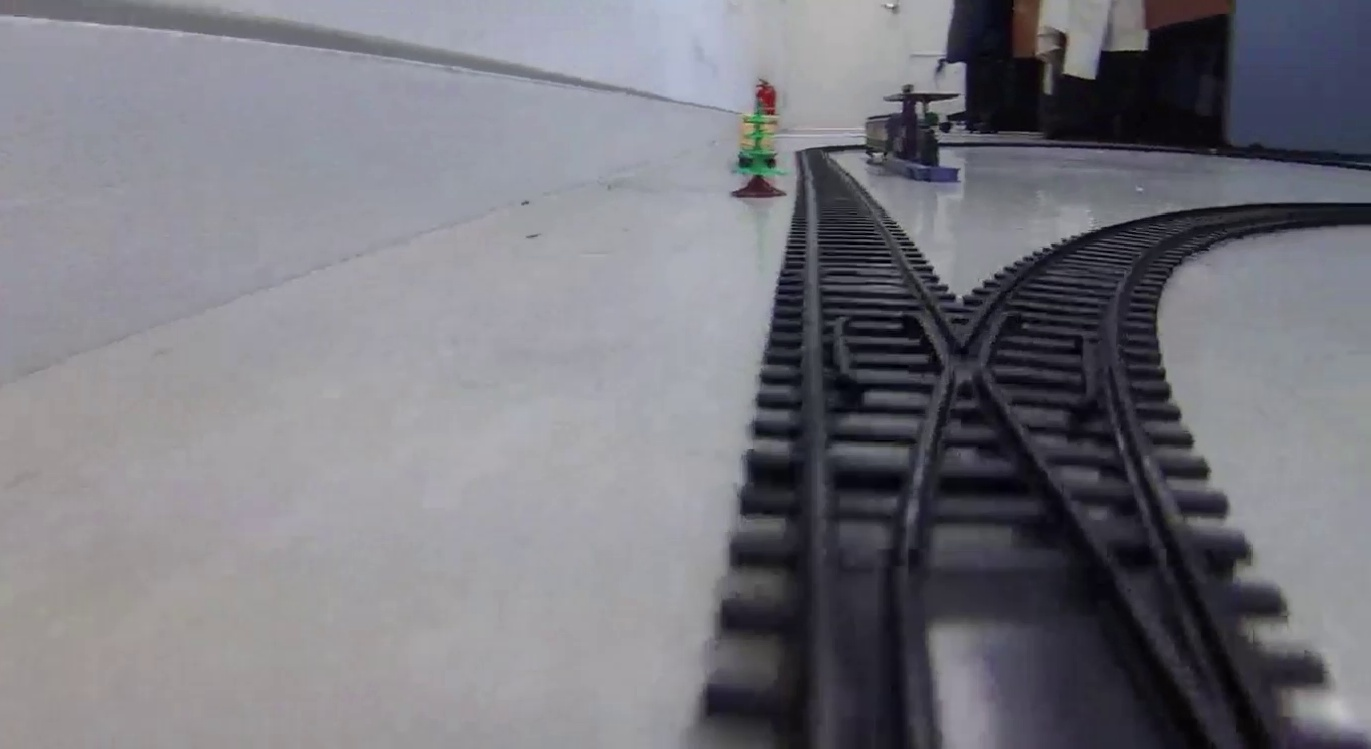tree: (740, 101, 781, 196)
